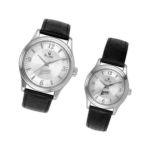watch: (18, 35, 73, 97), (84, 61, 128, 111)
